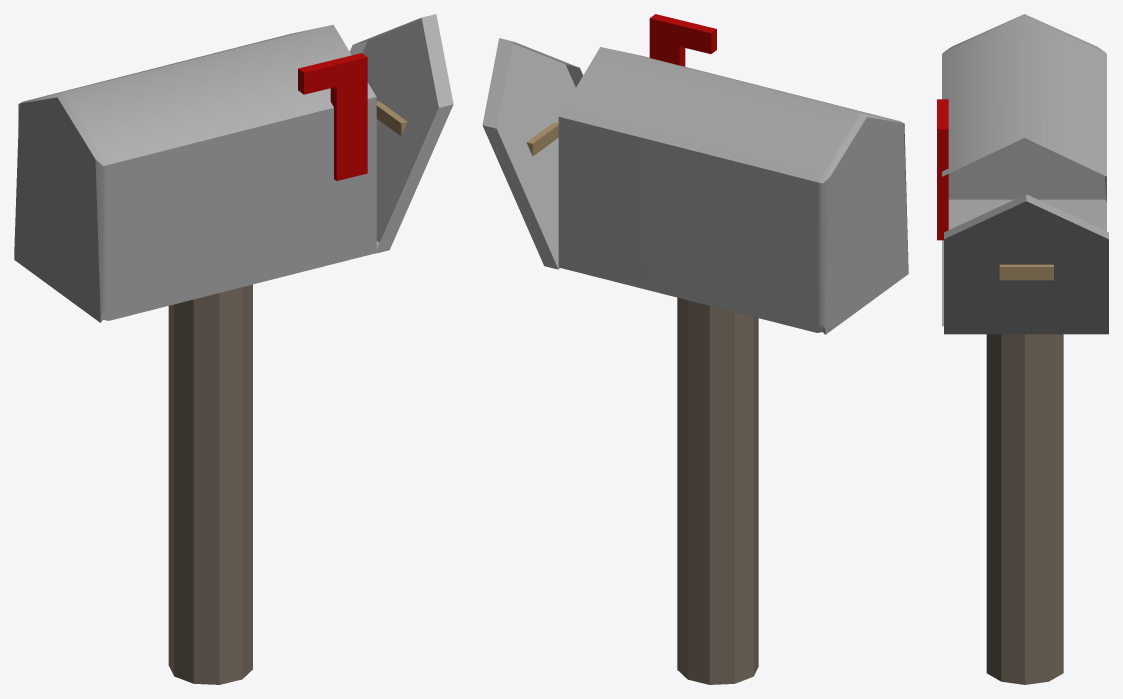
The model's file is MailboxOpen.fbx.
3 views of the same model, side by side, from view 1: azimuth 30°, elevation 25°; view 2: azimuth 150°, elevation 25°; view 3: azimuth 270°, elevation 25° (orthographic). The views are drawn at different scales.
Visible parts, largest first — view 1: pCylinder8; view 2: pCylinder8; view 3: pCylinder8.
Boxes of the visible parts, x1,y1,x2,y2 form: pCylinder8: (14, 14, 453, 684); pCylinder8: (482, 14, 908, 684); pCylinder8: (937, 14, 1108, 684).
Size of the model in its own units: 1.58 by 2.45 by 0.6451.
